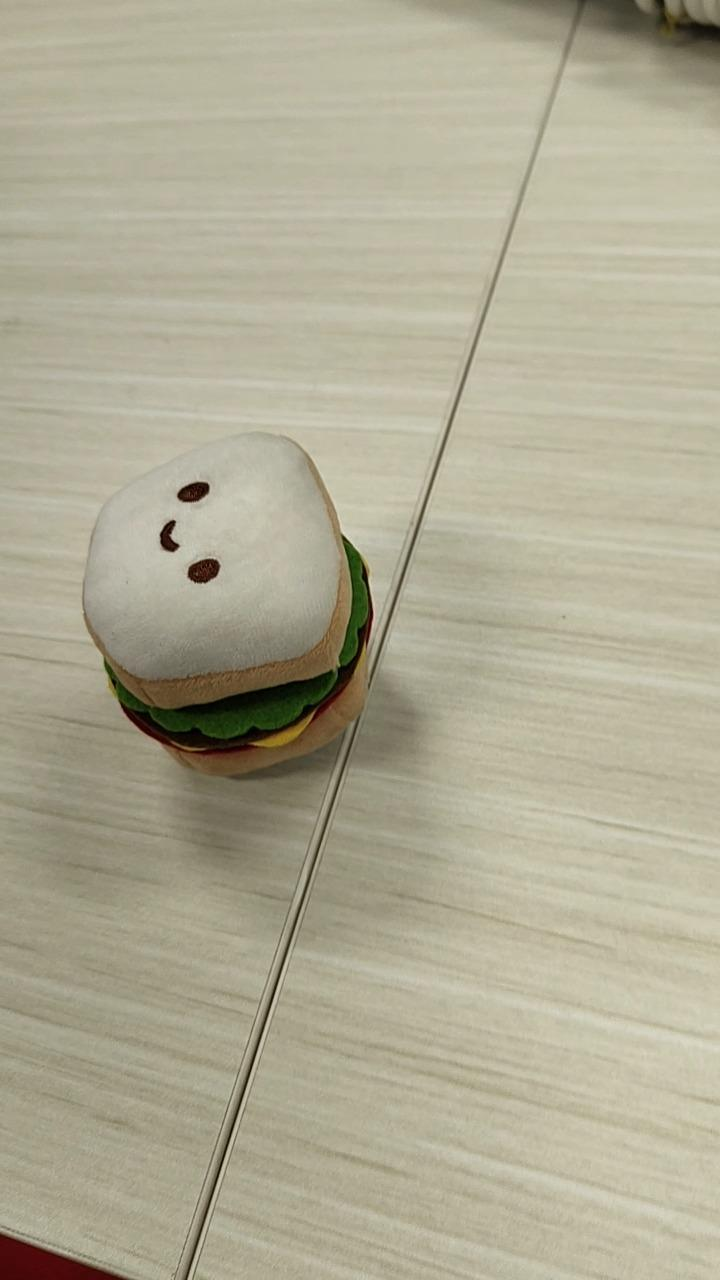objects: (80, 429, 374, 778)
